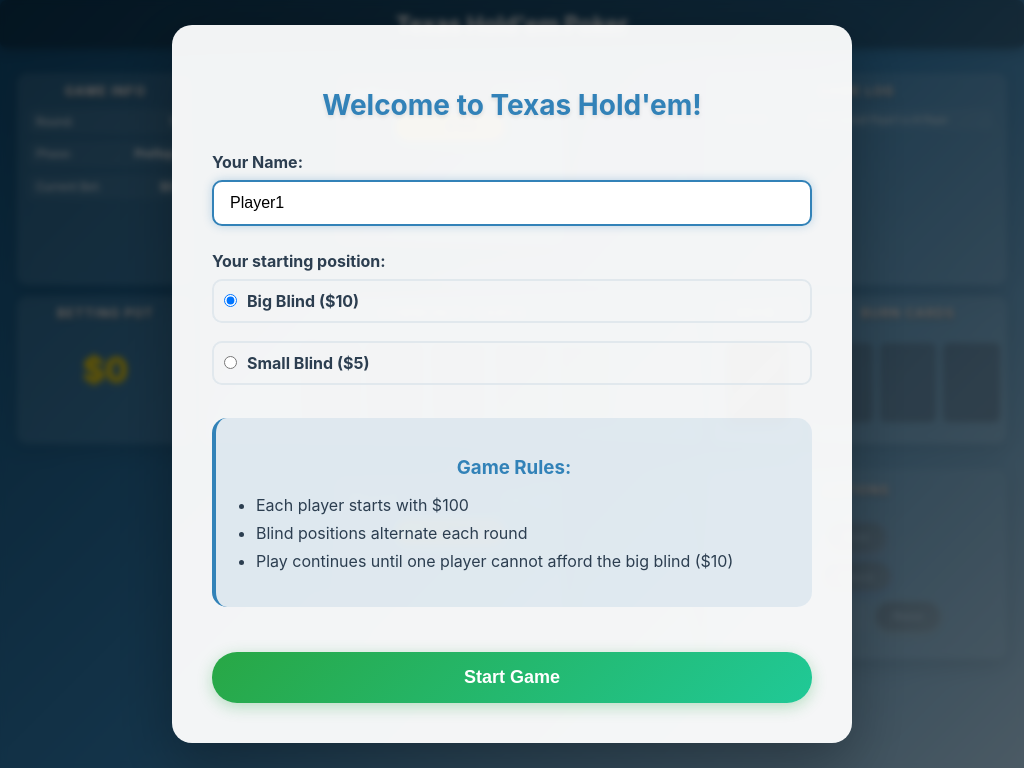
Test: Game Flow (GF-*) › GF-020: Blinds posted at round start › pot shows $15 after start (SB $5 + BB $10)
This screenshot has width=1024, height=768.
Type "Test" into the field with placeholder "Enter your name" at (512,203), box [212,180,812,226]
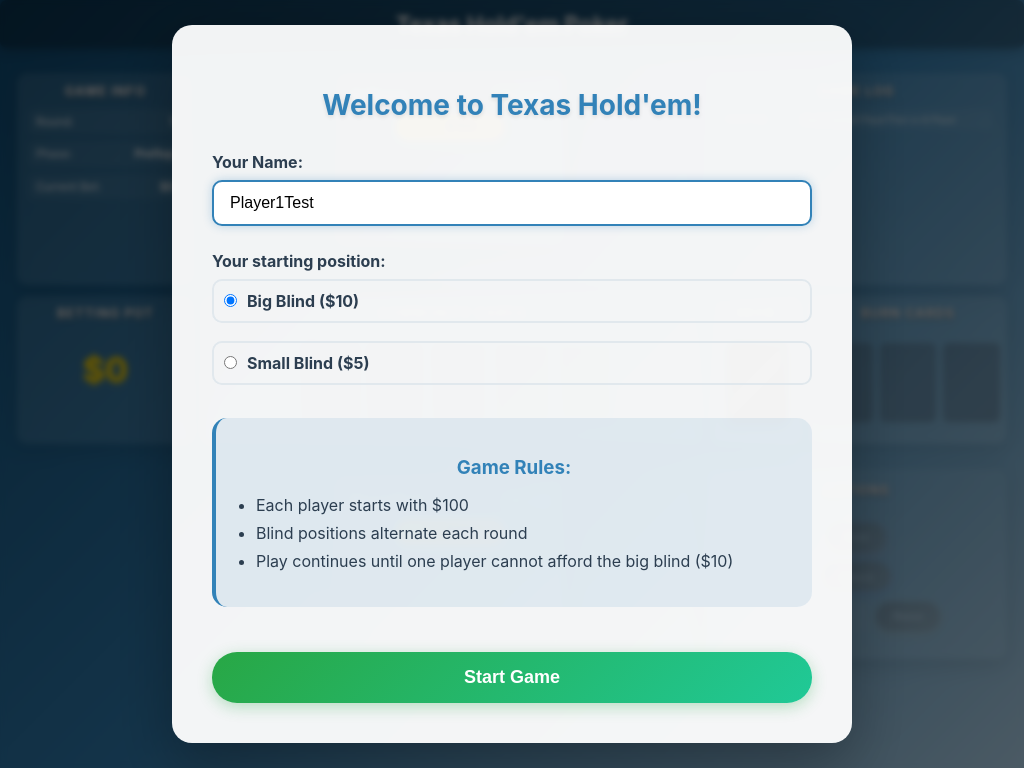
Click the button "Start Game" at (512,678), box [212,652,812,704]
Wait 3000 ms
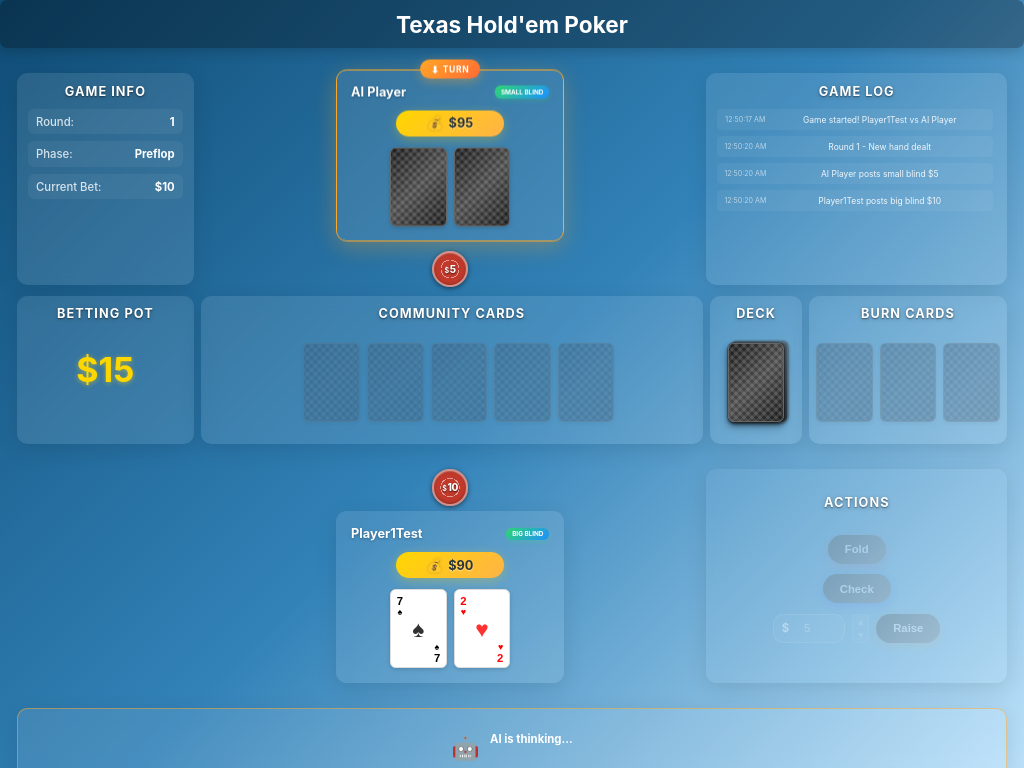
Result: the text "$15" is shown at [76,349,134,390]
